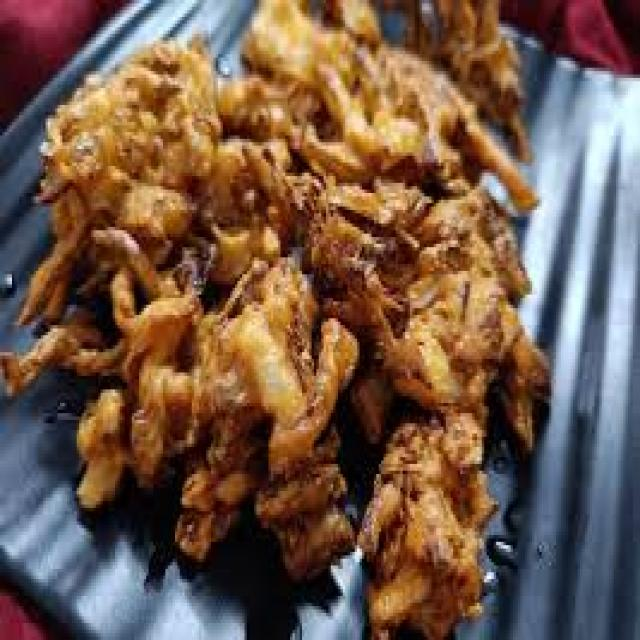BAJI: (6, 0, 562, 637)
